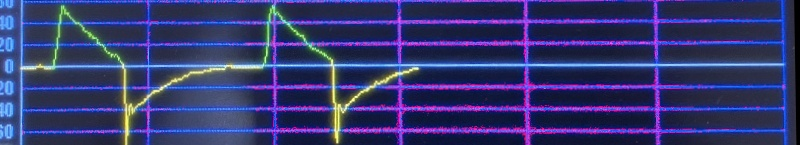normal_flow: (18, 1, 420, 145)
